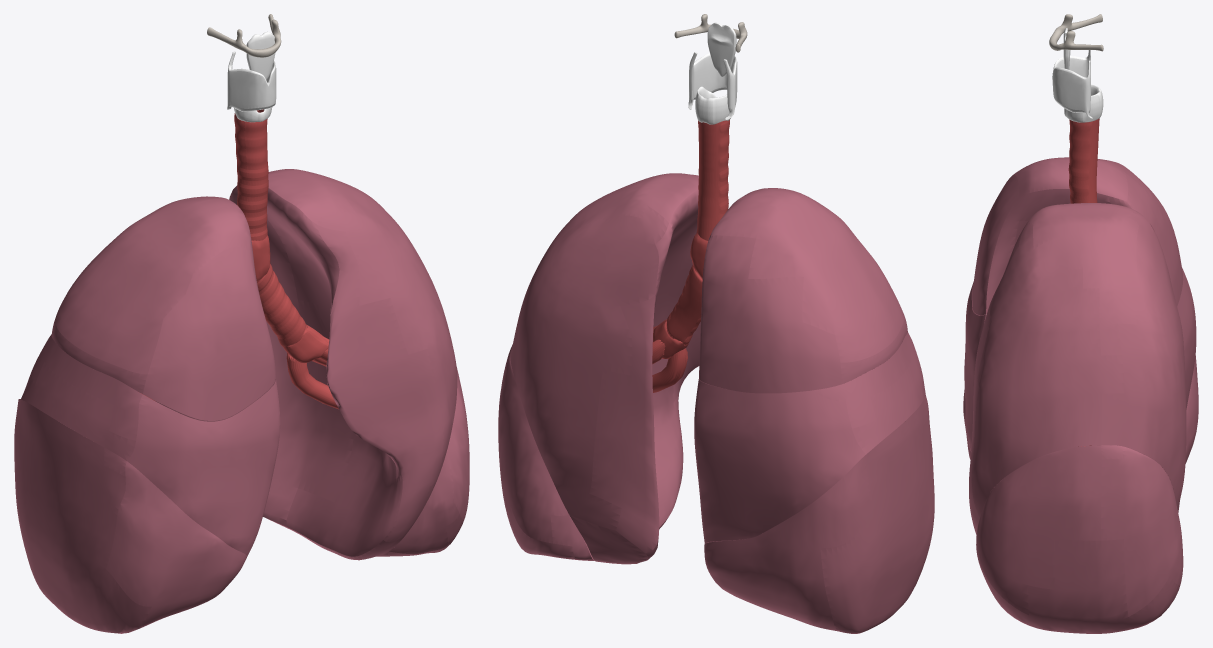
3 renders of one model, left to right at view 1: azimuth 30°, elevation 25°; view 2: azimuth 150°, elevation 25°; view 3: azimuth 270°, elevation 25°, orthographic. The views are drawn at different scales.
Visible parts, largest first — view 1: 3DSMeshMatrix (×5); view 2: 3DSMeshMatrix (×4); view 3: 3DSMeshMatrix (×5).
Part boxes in pixels (x1,y1,x2,y2): 3DSMeshMatrix (×5): (14, 14, 469, 633); 3DSMeshMatrix (×4): (498, 22, 934, 633); 3DSMeshMatrix (×5): (963, 14, 1198, 633).
Size of the model in its own units: 162 by 217 by 86.66.
